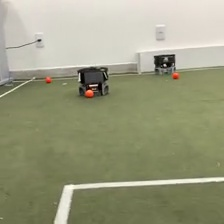ball: (83, 87, 94, 99), (43, 75, 52, 84), (171, 70, 179, 79)
goal: (134, 43, 224, 76)
robot: (76, 65, 111, 99), (153, 52, 177, 77)
